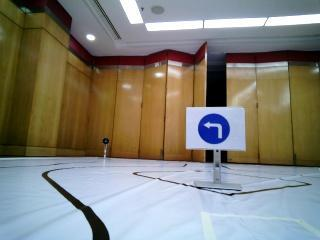left: (185, 107, 241, 150)
